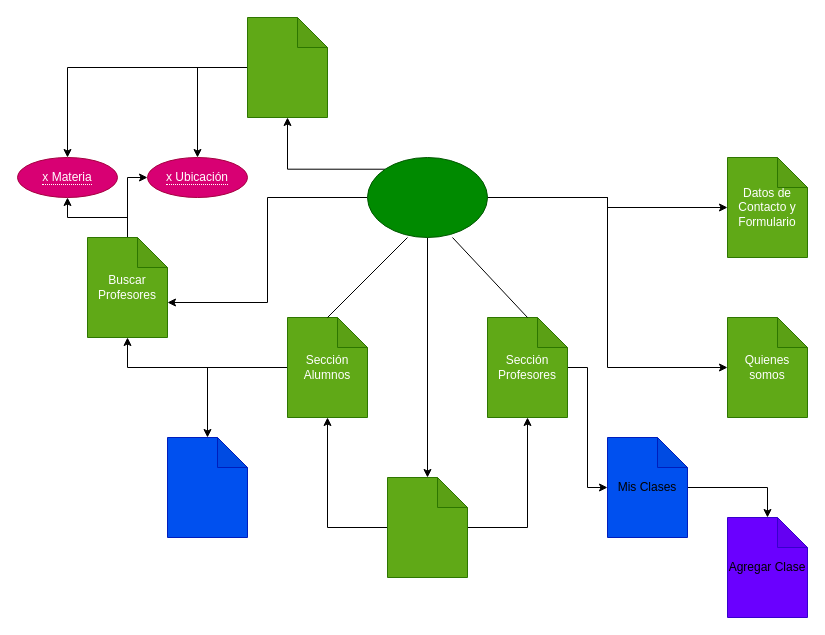
This 825x635 diagram has some shape labels left out. Each missing label, with the centre of its shape:
"Cursos Gratuitos" goes at (x=287, y=67).
"Favoritos" goes at (x=207, y=487).
"HOME" goes at (x=427, y=197).
"Registro de nuevos usuarios" goes at (x=427, y=527).
